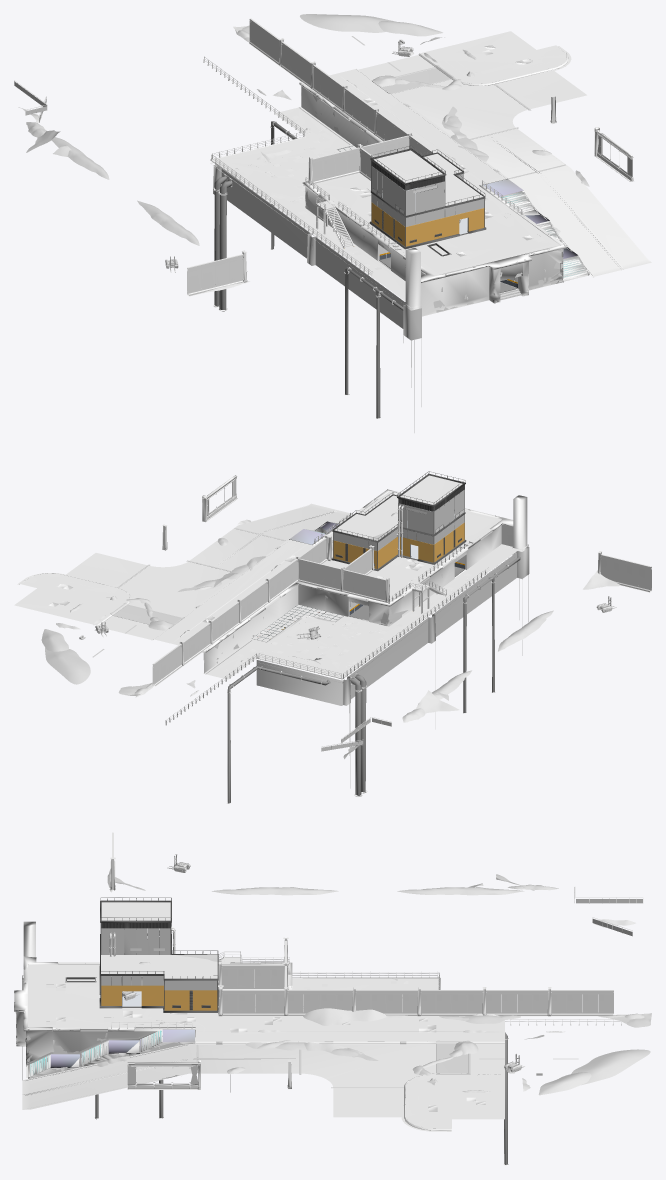
The model's file is cell_84_58.fbx.
3 renders of one model, top to bottom at view 1: azimuth 30°, elevation 25°; view 2: azimuth 150°, elevation 25°; view 3: azimuth 270°, elevation 25°, orthographic. The views are drawn at different scales.
Parts seen in each view (by area): view 1: SM_I_RoadFacility_Ground_C_04.mo, SM_H_Building_FutureTech_ToolHouse_01_ExterWall_01.mo, SM_I_RoadFacility_Ground_C_04C.mo, SM_I_RoadFacility_Ground_R_01M_Decal.mo, SM_I_RoadFacility_Ground_C_04Dd.mo, SM_H_Fence_SoundproofWall_02.mo.116, SM_H_Fence_SoundproofWall_02.mo.081, SM_I_Terrain_Road_Desert_Decal_Sand_01.mo.102, SM_RoadFacility_Road_AsphaltRoad_512_01.mo.023, SM_H_Fence_SoundproofWall_02.mo.089, SM_H_Fence_SoundproofWall_02.mo.088, SM_H_Fence_SoundproofWall_02.mo.086 (+7 smaller); view 2: SM_I_RoadFacility_Ground_C_04.mo, SM_H_Building_FutureTech_ToolHouse_01_ExterWall_01.mo, SM_I_RoadFacility_Ground_R_01M_Decal.mo, SM_I_RoadFacility_Ground_C_04C.mo, SM_I_RoadFacility_Ground_C_04Dd.mo, SM_H_Fence_SoundproofWall_02.mo.116, SM_H_Fence_SoundproofWall_02.mo.081, SM_H_Fence_SoundproofWall_02.mo.083, SM_I_Terrain_Road_Desert_Decal_Sand_01.mo.102, SM_H_Fence_SoundproofWall_02.mo.089, SM_RoadFacility_Road_AsphaltRoad_512_01.mo.023, SM_H_Fence_SoundproofWall_02.mo.088 (+9 smaller); view 3: SM_I_RoadFacility_Ground_C_04.mo, SM_H_Building_FutureTech_ToolHouse_01_ExterWall_01.mo, SM_I_RoadFacility_Ground_C_04C.mo, SM_H_Fence_SoundproofWall_02.mo.084, SM_H_Fence_SoundproofWall_02.mo.089, SM_H_Fence_SoundproofWall_02.mo.088, SM_H_Fence_SoundproofWall_02.mo.087, SM_H_Fence_SoundproofWall_02.mo.082, SM_H_Fence_SoundproofWall_02.mo.086, SM_H_Fence_SoundproofWall_02.mo.085, SM_I_Terrain_Road_Desert_Decal_Sand_01.mo.102, SM_I_Terrain_Road_Desert_Decal_Sand_02.mo.118 (+6 smaller).
Part boxes in pixels (x1=…): SM_I_RoadFacility_Ground_C_04.mo: x1=216, y1=31, x2=651, y2=316; SM_H_Building_FutureTech_ToolHouse_01_ExterWall_01.mo: x1=369, y1=146, x2=486, y2=249; SM_I_RoadFacility_Ground_C_04C.mo: x1=213, y1=45, x2=650, y2=312; SM_I_RoadFacility_Ground_R_01M_Decal.mo: x1=210, y1=136, x2=421, y2=432; SM_I_RoadFacility_Ground_C_04Dd.mo: x1=213, y1=116, x2=403, y2=419; SM_H_Fence_SoundproofWall_02.mo.116: x1=187, y1=250, x2=247, y2=296; SM_H_Fence_SoundproofWall_02.mo.081: x1=308, y1=147, x2=359, y2=184; SM_I_Terrain_Road_Desert_Decal_Sand_01.mo.102: x1=300, y1=14, x2=394, y2=32; SM_RoadFacility_Road_AsphaltRoad_512_01.mo.023: x1=372, y1=65, x2=454, y2=93; SM_H_Fence_SoundproofWall_02.mo.089: x1=249, y1=18, x2=284, y2=66; SM_H_Fence_SoundproofWall_02.mo.088: x1=281, y1=41, x2=315, y2=89; SM_H_Fence_SoundproofWall_02.mo.086: x1=344, y1=88, x2=379, y2=135; SM_I_RoadFacility_Ground_C_04.mo: x1=14, y1=489, x2=527, y2=678; SM_H_Building_FutureTech_ToolHouse_01_ExterWall_01.mo: x1=331, y1=471, x2=466, y2=571; SM_I_RoadFacility_Ground_R_01M_Decal.mo: x1=256, y1=544, x2=529, y2=788; SM_I_RoadFacility_Ground_C_04C.mo: x1=17, y1=489, x2=518, y2=679; SM_I_RoadFacility_Ground_C_04Dd.mo: x1=223, y1=556, x2=520, y2=803; SM_H_Fence_SoundproofWall_02.mo.116: x1=597, y1=551, x2=651, y2=592; SM_H_Fence_SoundproofWall_02.mo.081: x1=343, y1=569, x2=389, y2=602; SM_H_Fence_SoundproofWall_02.mo.083: x1=298, y1=558, x2=344, y2=591; SM_I_Terrain_Road_Desert_Decal_Sand_01.mo.102: x1=45, y1=647, x2=90, y2=684; SM_H_Fence_SoundproofWall_02.mo.089: x1=152, y1=640, x2=184, y2=686; SM_RoadFacility_Road_AsphaltRoad_512_01.mo.023: x1=110, y1=602, x2=184, y2=628; SM_H_Fence_SoundproofWall_02.mo.088: x1=183, y1=619, x2=213, y2=665; SM_I_RoadFacility_Ground_C_04.mo: x1=14, y1=921, x2=504, y2=1130; SM_H_Building_FutureTech_ToolHouse_01_ExterWall_01.mo: x1=99, y1=897, x2=219, y2=1012; SM_I_RoadFacility_Ground_C_04C.mo: x1=14, y1=964, x2=504, y2=1131; SM_H_Fence_SoundproofWall_02.mo.084: x1=218, y1=987, x2=288, y2=1016; SM_H_Fence_SoundproofWall_02.mo.089: x1=547, y1=987, x2=613, y2=1016; SM_H_Fence_SoundproofWall_02.mo.088: x1=482, y1=987, x2=548, y2=1016; SM_H_Fence_SoundproofWall_02.mo.087: x1=417, y1=987, x2=483, y2=1016; SM_H_Fence_SoundproofWall_02.mo.082: x1=218, y1=962, x2=287, y2=990; SM_H_Fence_SoundproofWall_02.mo.086: x1=352, y1=987, x2=417, y2=1016; SM_H_Fence_SoundproofWall_02.mo.085: x1=283, y1=987, x2=352, y2=1016; SM_I_Terrain_Road_Desert_Decal_Sand_01.mo.102: x1=571, y1=1049, x2=650, y2=1085; SM_I_Terrain_Road_Desert_Decal_Sand_02.mo.118: x1=303, y1=1008, x2=386, y2=1025.
Size of the model in its own units: 94.87 by 38.67 by 95.09.
